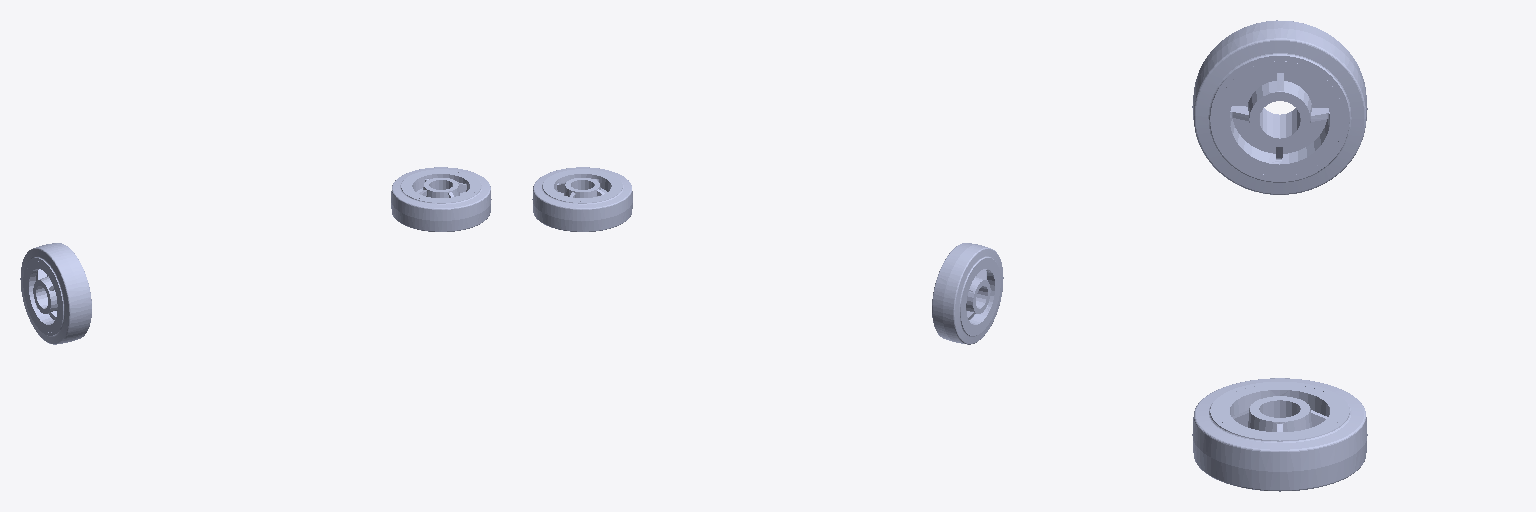
The robot description file, URDF, robot "drivetrain_urdf":
<?xml version="1.0" encoding="utf-8"?>
<!-- This URDF was automatically created by SolidWorks to URDF Exporter! Originally created by Stephen Brawner (brawner@gmail.com) 
     Commit Version: 1.6.0-4-g7f85cfe  Build Version: 1.6.7995.38578
     For more information, please see http://wiki.ros.org/sw_urdf_exporter -->
<robot
  name="drivetrain_urdf">

  <link name="world"/>

  <link
    name="base_link">
    <inertial>
      <origin
        xyz="0.25853 -0.477 0.1222"
        rpy="0 0 0" />
      <mass
        value="18.295" />
      <inertia
        ixx="0.10003"
        ixy="1.888E-07"
        ixz="9.4489E-10"
        iyy="0.18366"
        iyz="-7.4547E-08"
        izz="0.18101" />
    </inertial>
    <visual>
      <origin
        xyz="0 0 0"
        rpy="0 0 0" />
      <geometry>
        <mesh
          filename="package://drivetrain_urdf/meshes/base_link.STL" />
      </geometry>
      <material
        name="">
        <color
          rgba="0.75294 0.75294 0.75294 1" />
      </material>
    </visual>
    <collision>
      <origin
        xyz="0 0 0"
        rpy="0 0 0" />
      <geometry>
        <mesh
          filename="package://drivetrain_urdf/meshes/base_link.STL" />
      </geometry>
    </collision>
  </link>

  <joint name="base_joint" type="fixed">
  	<parent link="world"/>
  	<child link="base_link"/>
  	<origin rpy="0 0 0" xyz="0.0 0.0 0.02"/>
  </joint>

  <link
    name="left_wheel">
    <inertial>
      <origin
        xyz="1.3885E-08 -4.7617E-10 -8.5336E-12"
        rpy="0 0 0" />
      <mass
        value="0.36704" />
      <inertia
        ixx="0.00082344"
        ixy="4.2918E-12"
        ixz="1.5551E-13"
        iyy="0.0004503"
        iyz="2.6527E-10"
        izz="0.0004503" />
    </inertial>
    <visual>
      <origin
        xyz="0 0 0"
        rpy="0 0 0" />
      <geometry>
        <mesh
          filename="package://drivetrain_urdf/meshes/left_wheel.STL" />
      </geometry>
      <material
        name="">
        <color
          rgba="0.79216 0.81961 0.93333 1" />
      </material>
    </visual>
    <collision>
      <origin
        xyz="0 0 0"
        rpy="0 0 0" />
      <geometry>
        <mesh
          filename="package://drivetrain_urdf/meshes/left_wheel.STL" />
      </geometry>
    </collision>
  </link>
  <joint
    name="left_wheel_joint"
    type="continuous">
    <origin
      xyz="-0.026657 -0.33398 0.025404"
      rpy="0 0 0" />
    <parent
      link="base_link" />
    <child
      link="left_wheel" />
    <axis
      xyz="1 0 0" />
  </joint>
  <link
    name="right_wheel">
    <inertial>
      <origin
        xyz="1.38846331099174E-08 4.10696837649382E-10 2.41110575949222E-10"
        rpy="0 0 0" />
      <mass
        value="0.367037154275228" />
      <inertia
        ixx="0.000823444186063912"
        ixy="-3.66312406808114E-12"
        ixz="-2.24165888026677E-12"
        iyy="0.000450304106155883"
        iyz="9.61590847448285E-10"
        izz="0.0004503035608644" />
    </inertial>
    <visual>
      <origin
        xyz="0 0 0"
        rpy="0 0 0" />
      <geometry>
        <mesh
          filename="package://drivetrain_urdf/meshes/right_wheel.STL" />
      </geometry>
      <material
        name="">
        <color
          rgba="0.792156862745098 0.819607843137255 0.933333333333333 1" />
      </material>
    </visual>
    <collision>
      <origin
        xyz="0 0 0"
        rpy="0 0 0" />
      <geometry>
        <mesh
          filename="package://drivetrain_urdf/meshes/right_wheel.STL" />
      </geometry>
    </collision>
  </link>
  <joint
    name="right_wheel_joint"
    type="continuous">
    <origin
      xyz="0.53466 -0.33397 0.025369"
      rpy="0 0 0" />
    <parent
      link="base_link" />
    <child
      link="right_wheel" />
    <axis
      xyz="1 0 0" />
  </joint>

  <transmission name="left_wheel_trans">
  	<type>transmission_interface/SimpleTransmission</type>
  	<joint name="left_wheel_joint">
  		<hardwareInterface>hardware_interface/PositionJointInterface</hardwareInterface>
  	</joint>
  	<actuator name="left_wheel_motor">
  		<hardwareInterface>hardware_interface/PositionJointInterface</hardwareInterface>
  		<mechanicalReduction>1</mechanicalReduction>
  	</actuator>
  </transmission>
  
  <transmission name="right_wheel_trans">
  	<type>transmission_interface/SimpleTransmission</type>
  	<joint name="right_wheel_joint">
  		<hardwareInterface>hardware_interface/PositionJointInterface</hardwareInterface>
  	</joint>
  	<actuator name="right_wheel_motor">
  		<hardwareInterface>hardware_interface/PositionJointInterface</hardwareInterface>
  		<mechanicalReduction>1</mechanicalReduction>
  	</actuator>
  </transmission>
  
  <gazebo>
  	<plugin name="control" filename="libgazebo_ros_control.so">
  		<robotNamespace>/</robotNamespace>
  	</plugin>
  </gazebo>
  
  <gazebo reference="left_wheel">
  	<selfCollide>true</selfCollide>
  </gazebo>
  
  <gazebo reference="right_wheel">
  	<selfCollide>true</selfCollide>
  </gazebo>

</robot>

--- What the picture shows (computed from the rendered views, not written in the file) ---
Views: 3 orthographic renders of the robot side by side, from view 1: azimuth 30°, elevation 25°; view 2: azimuth 150°, elevation 25°; view 3: azimuth 270°, elevation 25°.
Model drivetrain_urdf with 4 links and 3 joints (2 continuous, 1 fixed), rooted at world, posed every joint at zero.
Links seen in each view (by area): view 1: left_wheel, right_wheel; view 2: left_wheel, right_wheel; view 3: left_wheel, right_wheel.
Link boxes in pixels (<box>): left_wheel: <box>20,243,91,344</box>; right_wheel: <box>391,167,491,231</box>; left_wheel: <box>932,243,1003,344</box>; right_wheel: <box>532,167,632,231</box>; left_wheel: <box>1192,20,1367,194</box>; right_wheel: <box>1192,378,1367,491</box>.
Size in the robot's own frame: 0.6455 by 0.127 by 0.127 metres.
Meshes: 3 distinct files referenced, 2 mesh visuals loaded (2 binary STL); not drawn: 1 (reference not matched to a file when rendering).
